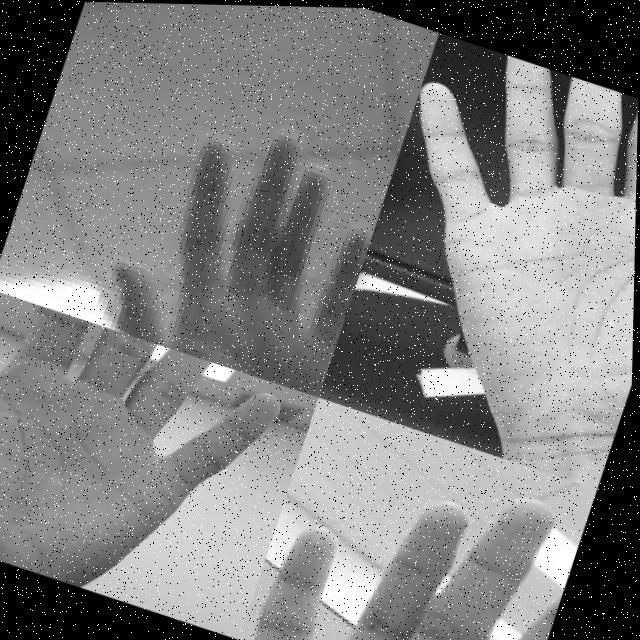no-gloves: (330, 29, 640, 462), (0, 287, 290, 629), (95, 86, 397, 396), (240, 415, 593, 640)
